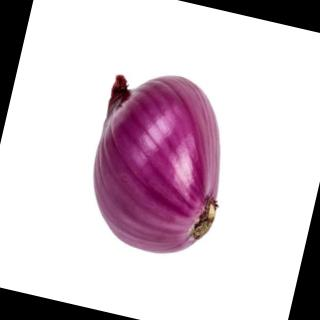Bawang Merah: (73, 58, 249, 267)
